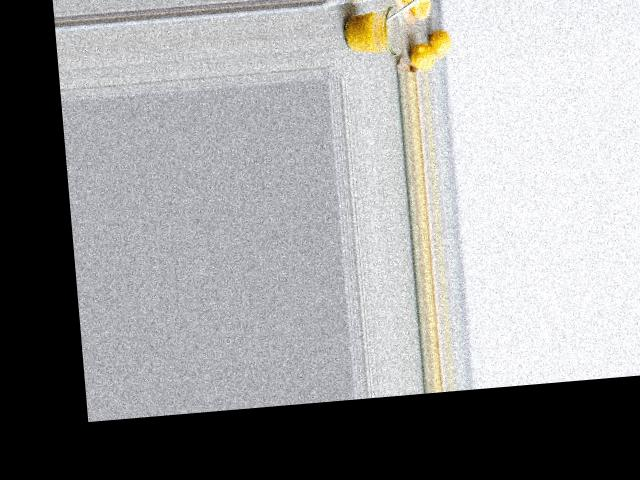lemon: (431, 29, 455, 62)
